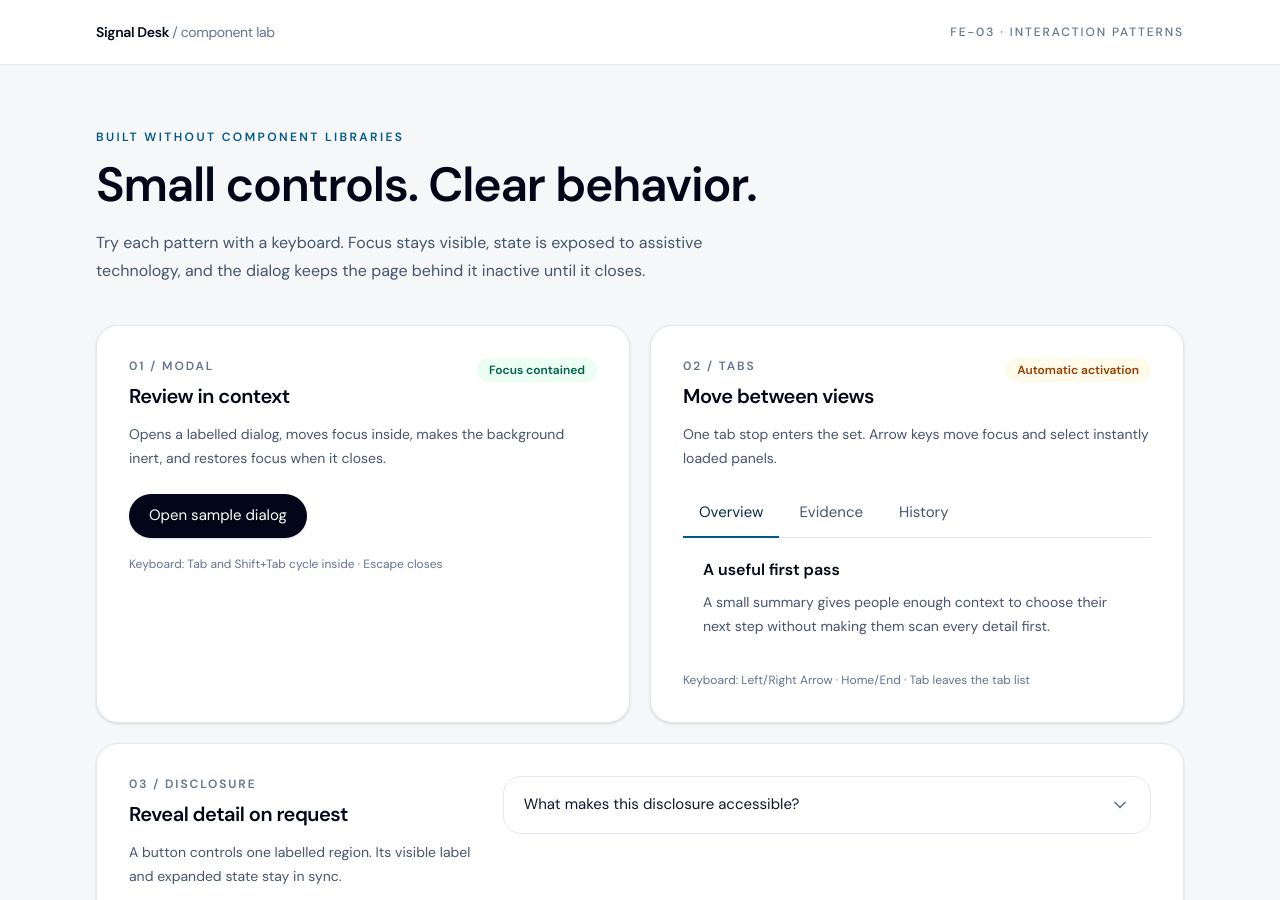
accessible widgets › opens the dialog, focuses its title, closes with Escape, and restores focus
Click the button "Open sample dialog" at (218, 516), box [129,494,307,538]
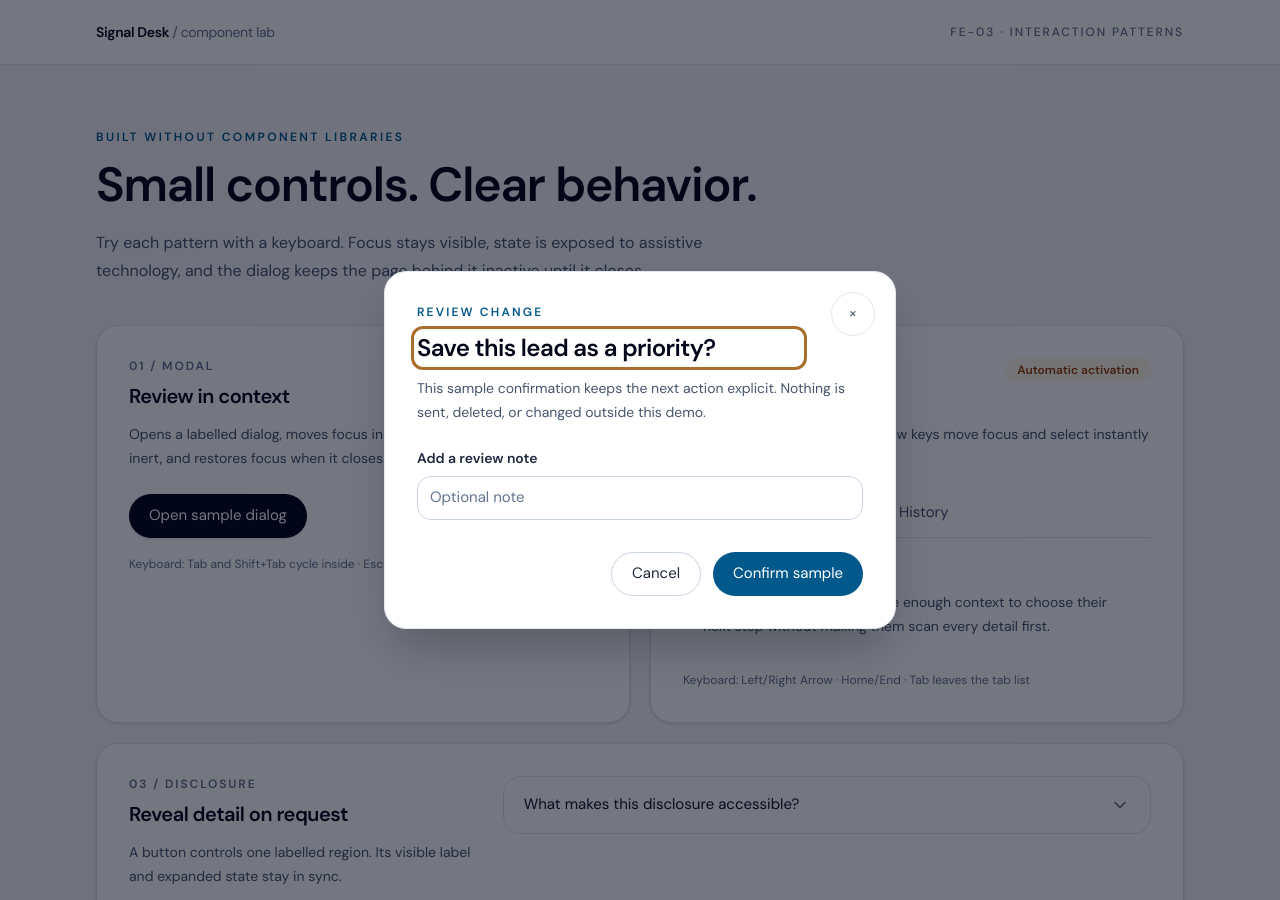
Press Escape
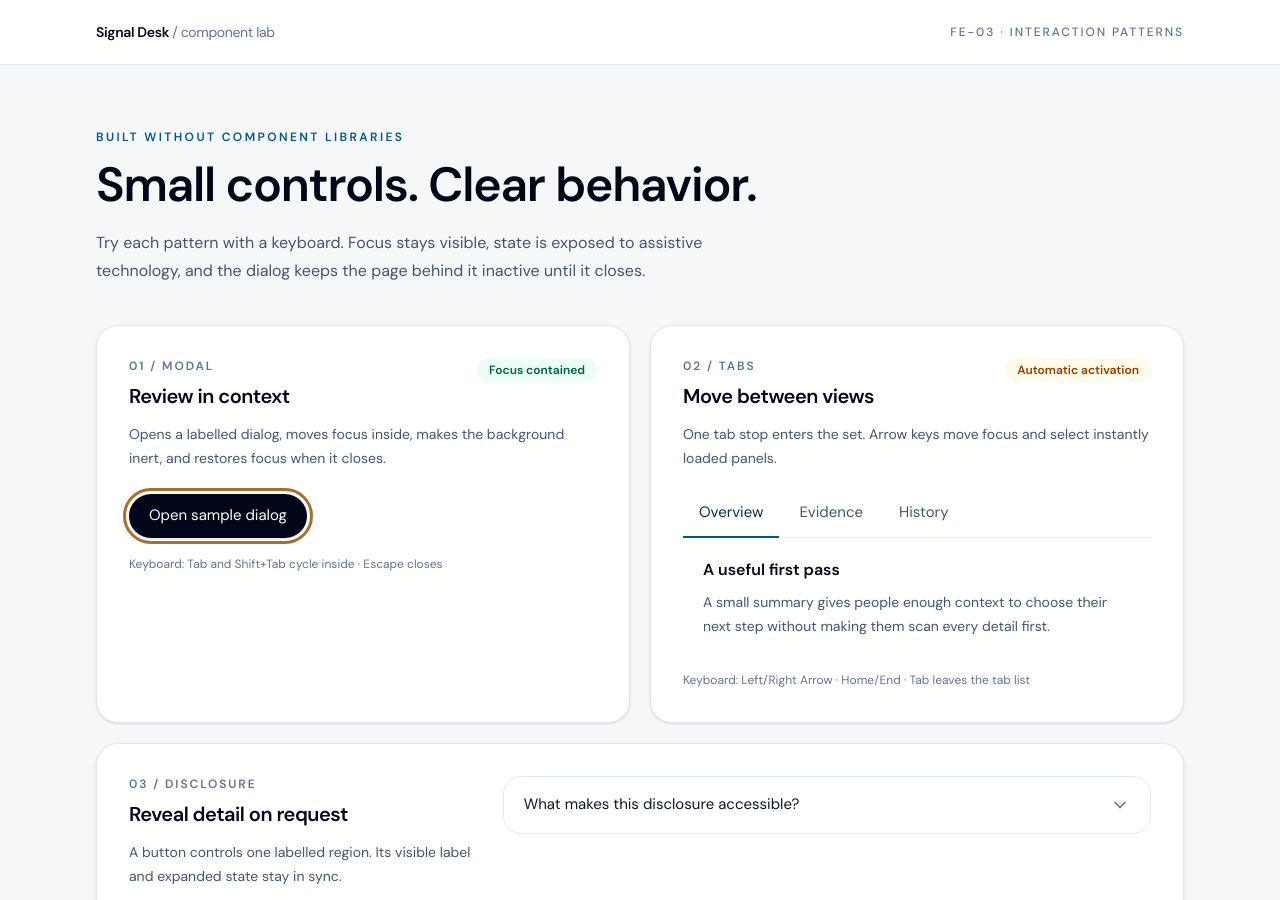
Check: the dialog is gone
